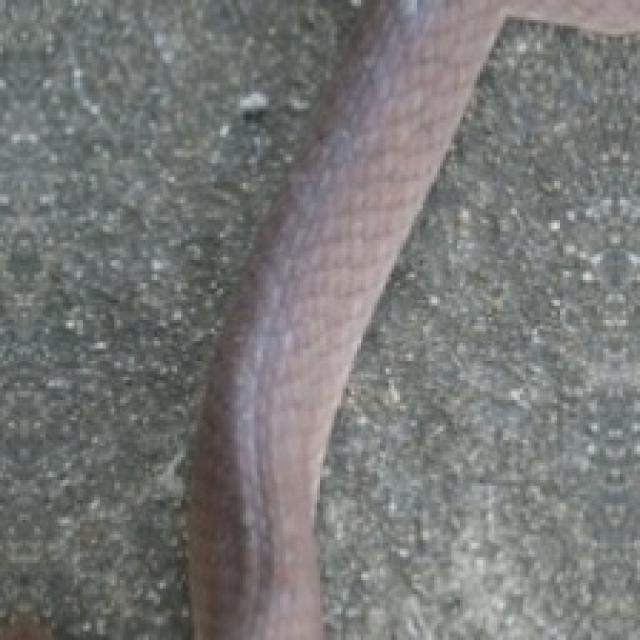reddish rat snake: (191, 0, 637, 637)
